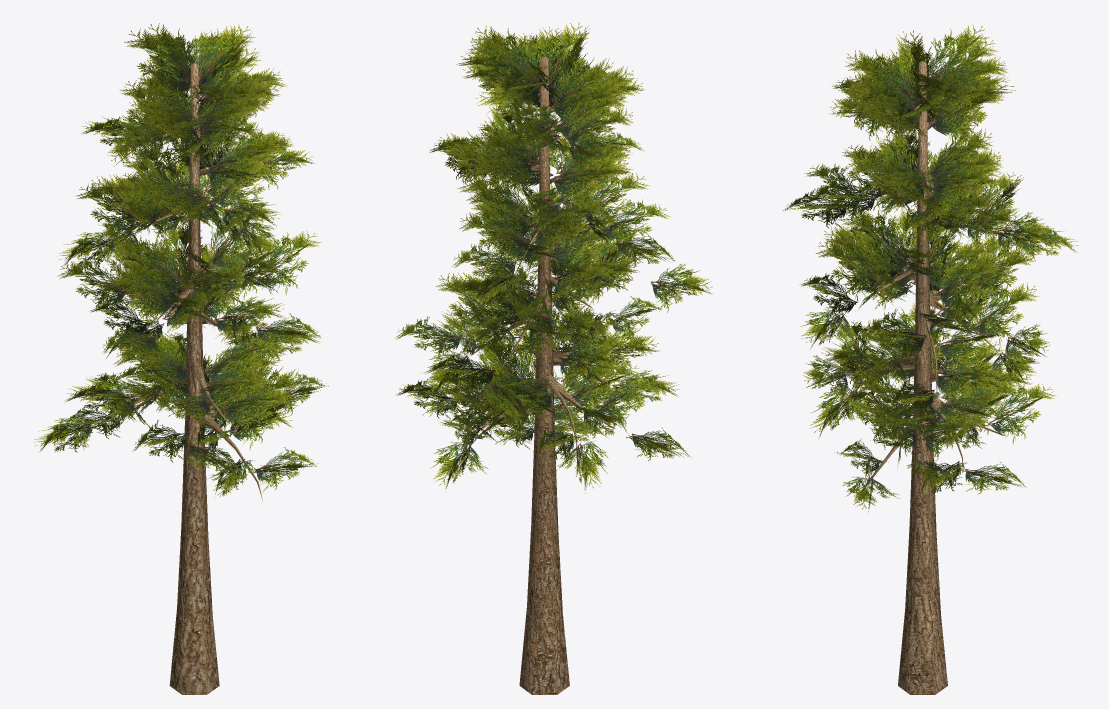
Rendered from flower_04.glb.
The picture shows the model from 3 angles, left to right: view 1: azimuth 30°, elevation 25°; view 2: azimuth 150°, elevation 25°; view 3: azimuth 270°, elevation 25°; orthographic projection.
Visible parts, largest first — view 1: Tree_1; view 2: Tree_1; view 3: Tree_1.
Boxes of the visible parts, left/top/right/bottom form: Tree_1: left=34, top=23, right=328, bottom=694; Tree_1: left=395, top=22, right=712, bottom=694; Tree_1: left=783, top=24, right=1077, bottom=694.
Bounding box in the file's own units: 13.53 × 26.13 × 12.03.
2 materials, 2 textured.
